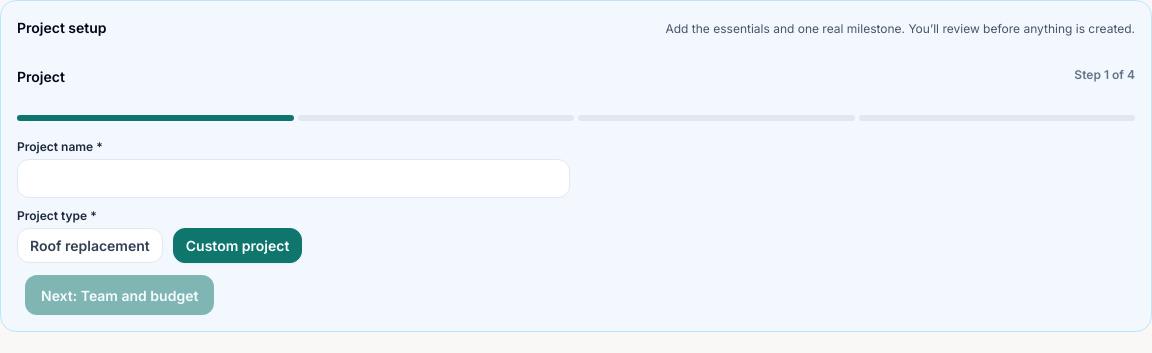
Test: grouped workflow capture › shows Project Tracker setup as four focused stages instead of one wall of fields
Expected: the text "Step 1 of 4" is shown, [1074,66,1135,84]
Expected: the field labelled "Contractor or company" is not shown
Type "Replace the roof" into the field named "Project name".
click(294, 178); type("Replace the roof")  # box [17,159,570,198]
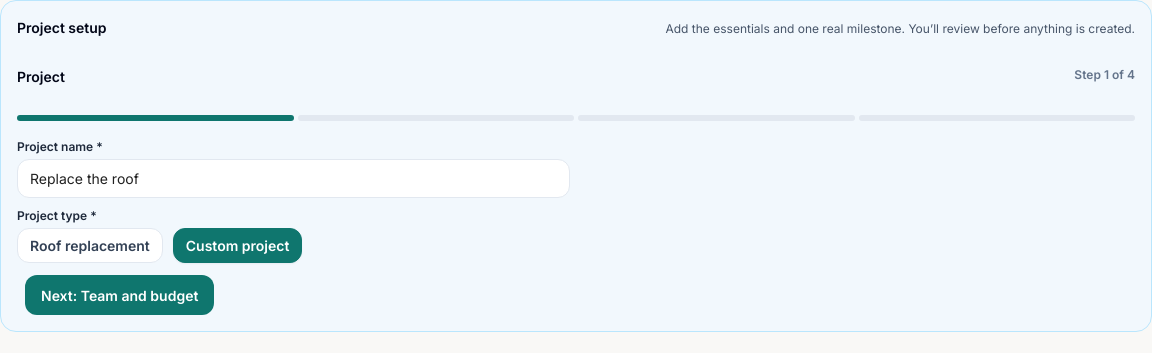
Click the button "Next: Team and budget".
click(120, 295)  # box [25,275,214,315]
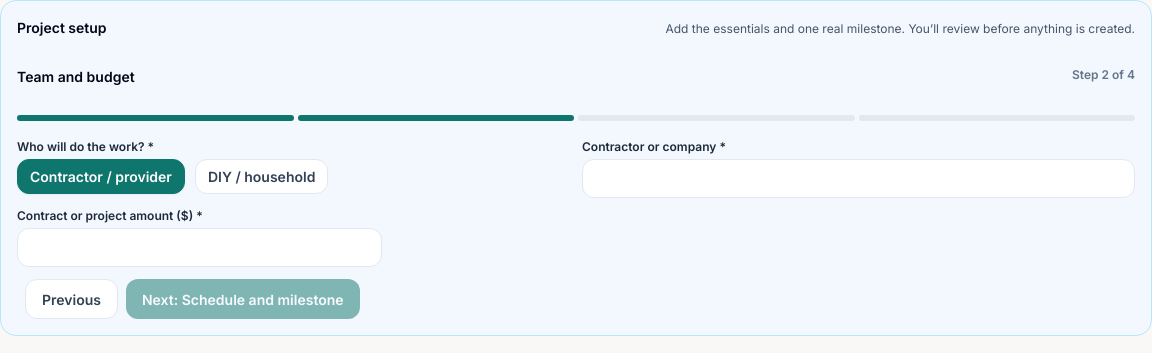
Expected: the field named "Contractor or company" is shown, [582,159,1135,198]
Result: the text "Step 2 of 4" is shown at [1072,66,1135,84]
